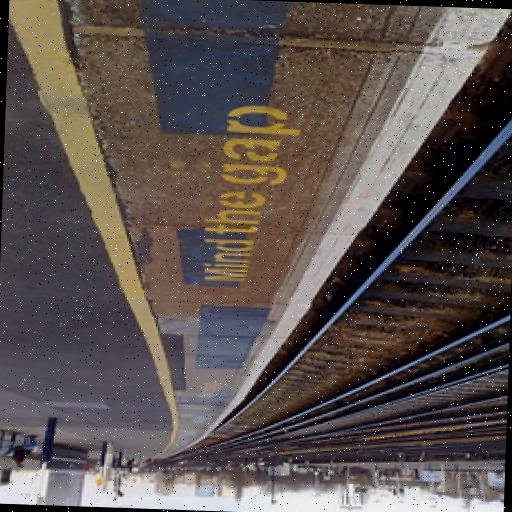platform_edge: (0, 0, 407, 453)
